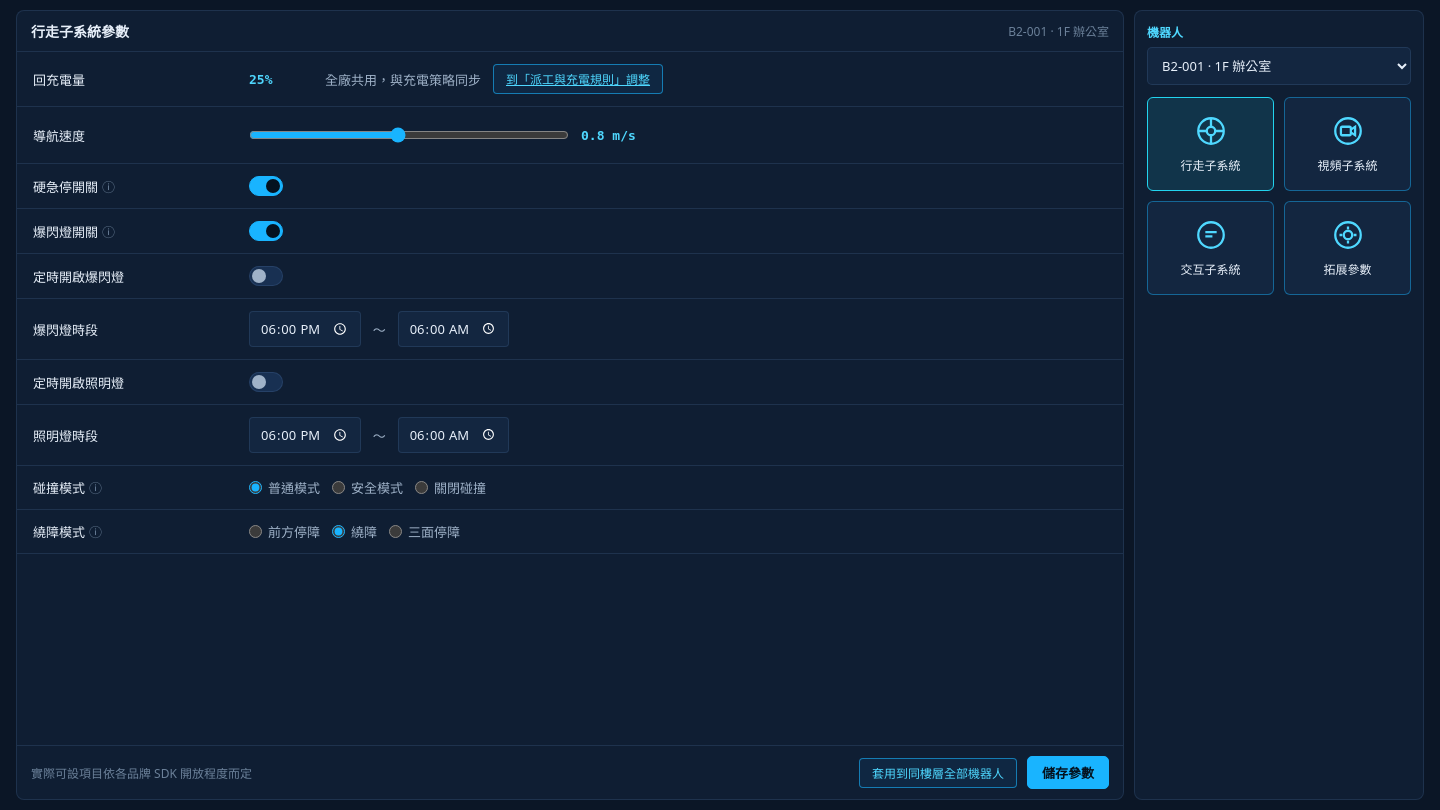
Test: 機器人參數（T-27） › 四個子系統表單（欄位來自 contracts）；回充電量顯示全廠設定；儲存送 PUT 目前子系統
Expected: the text "25%" is shown, [249,72,272,86]
Set the slider named "導航速度" to "0.6". click: (351,135)
box: [249,119,569,151]
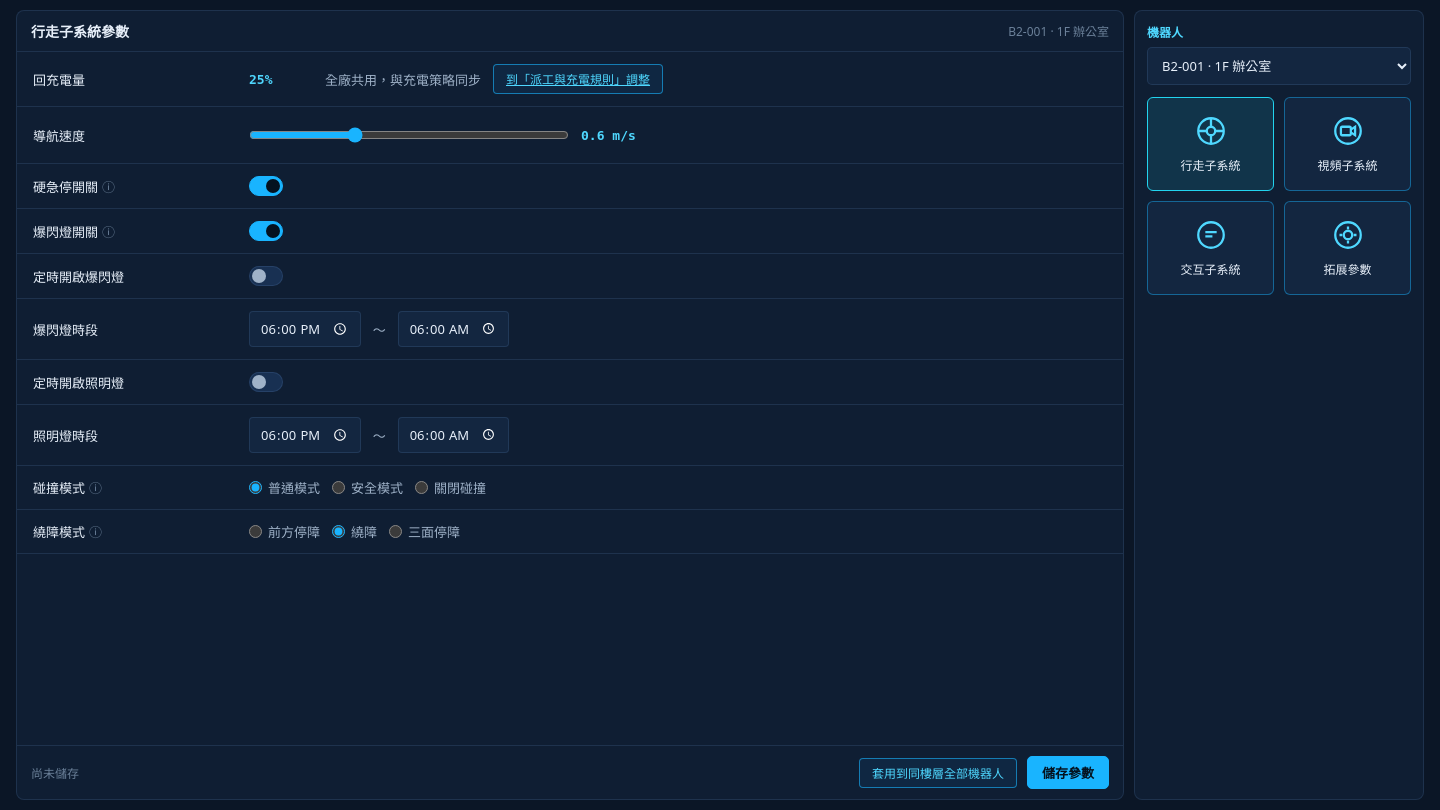
Click the radio button labelled "安全模式". click: (338,488)
box: [332,481,345,494]
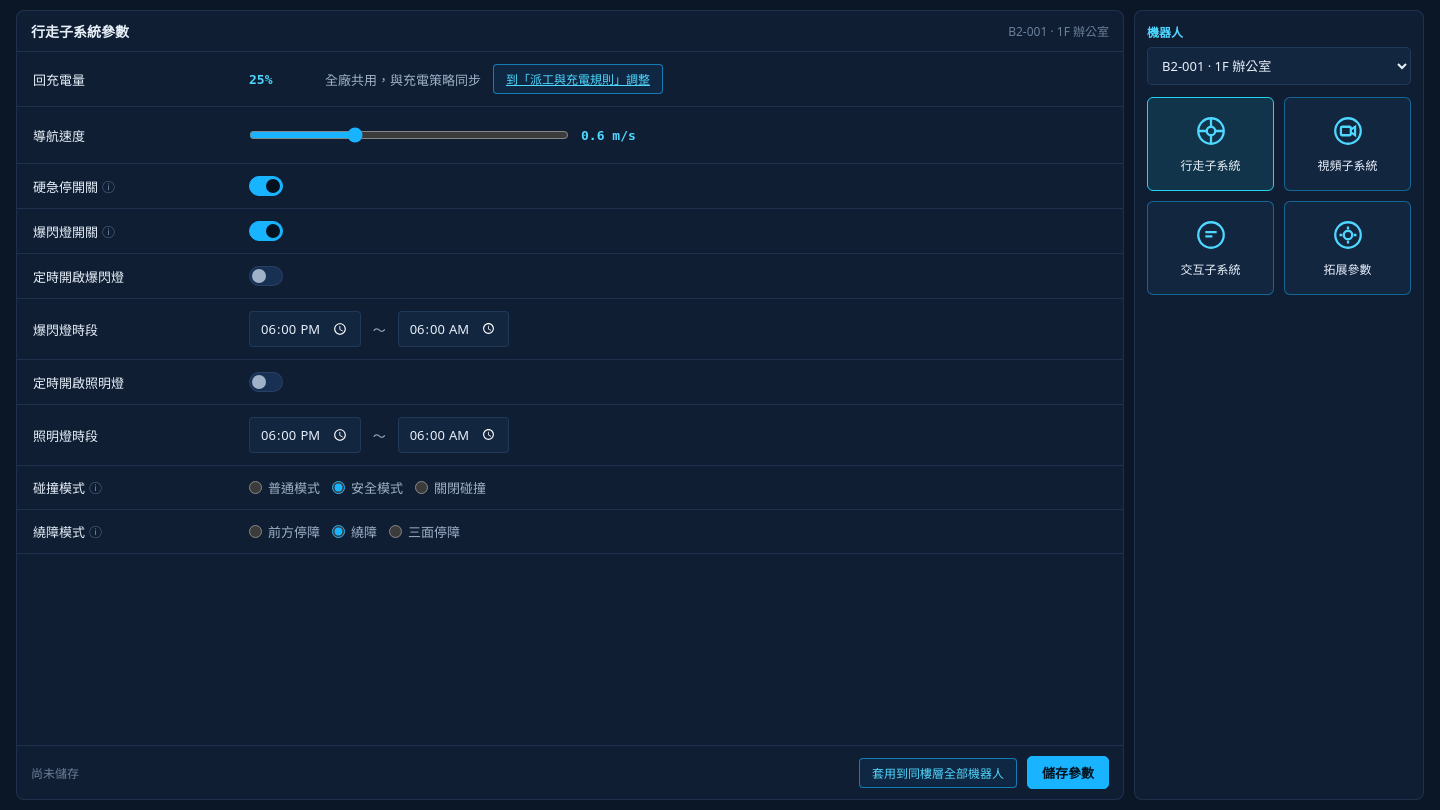
Now the text "尚未儲存" is shown, box [31,764,79,782]
Click the button "儲存參數". click: (1068,772)
box: [1027,756,1109,789]
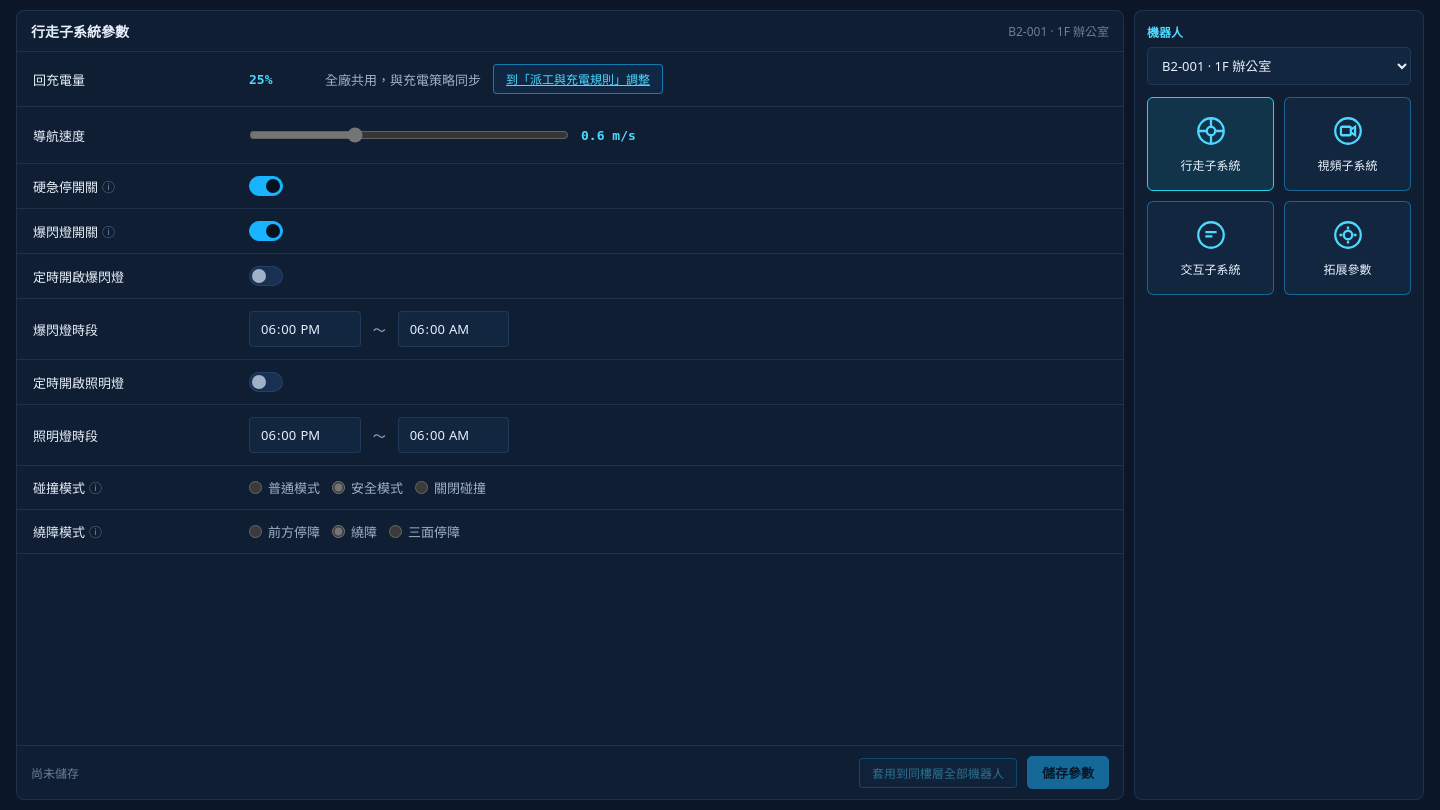
Click the tab "拓展參數". click: (1348,248)
box: [1284,201,1411,295]
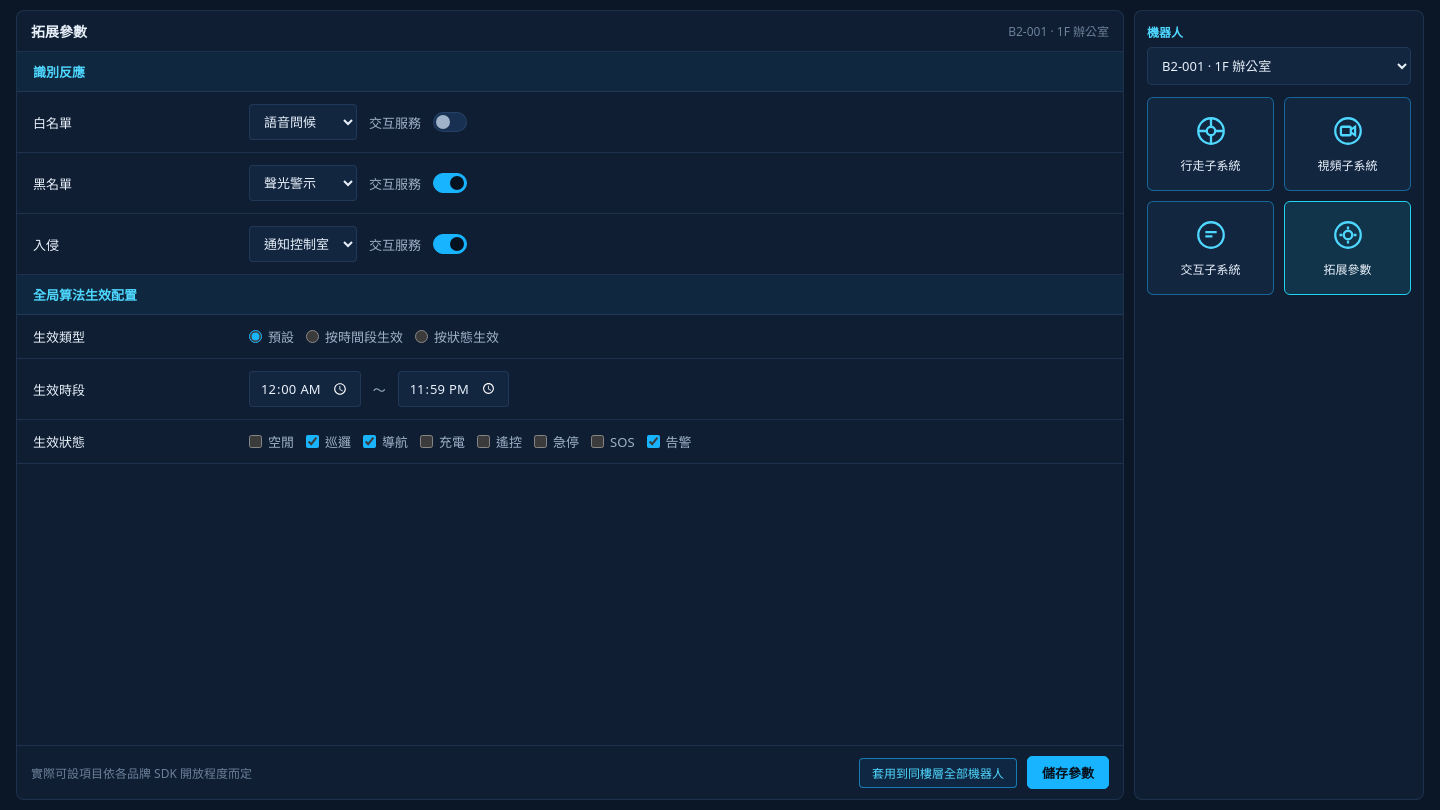
Now the text "識別反應" is shown, box [17,52,1123,92]
Now the dropdown named "黑名單" shows "聲光警示", box [249,165,357,201]
